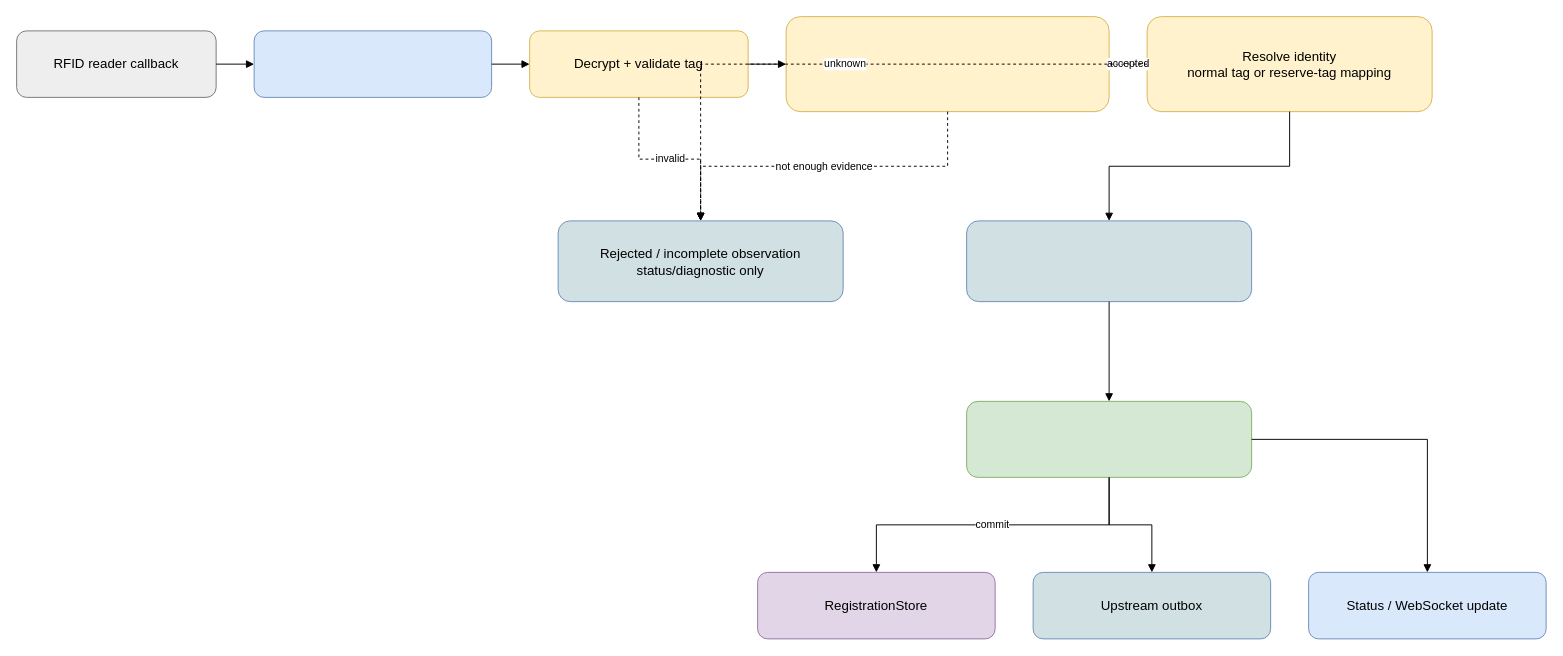
Image size: 1563x656. Some labels were removed from this diagram. The centre of each missing label's shape, as x and y in pixels:
AcceptedTag with evidence + observation time: point 1109,261
Accumulate / filter observations first read is not automatically accepted: point 947,64
Capture observation timestamp: point 372,63
Registration candidate: point 1109,438
